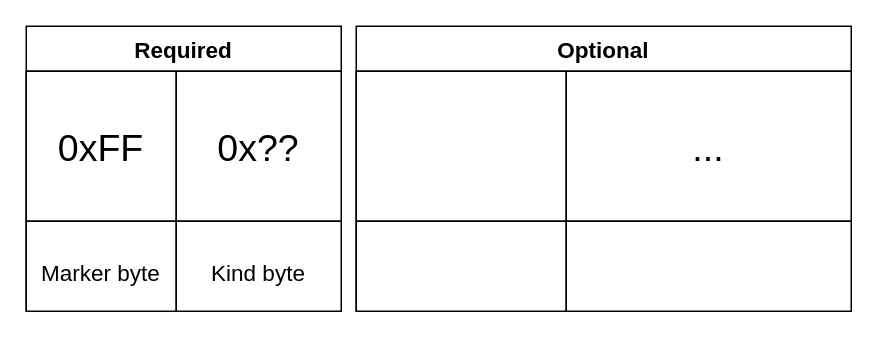
This 878x338 diagram has some shape labels left out. The centre of each missing label's shape, as x and y in pixels:
"0x?? 0x??" goes at point (460, 145).
"2-byte length" goes at point (460, 265).
"`length - 2` bytes of data" goes at point (708, 265).
